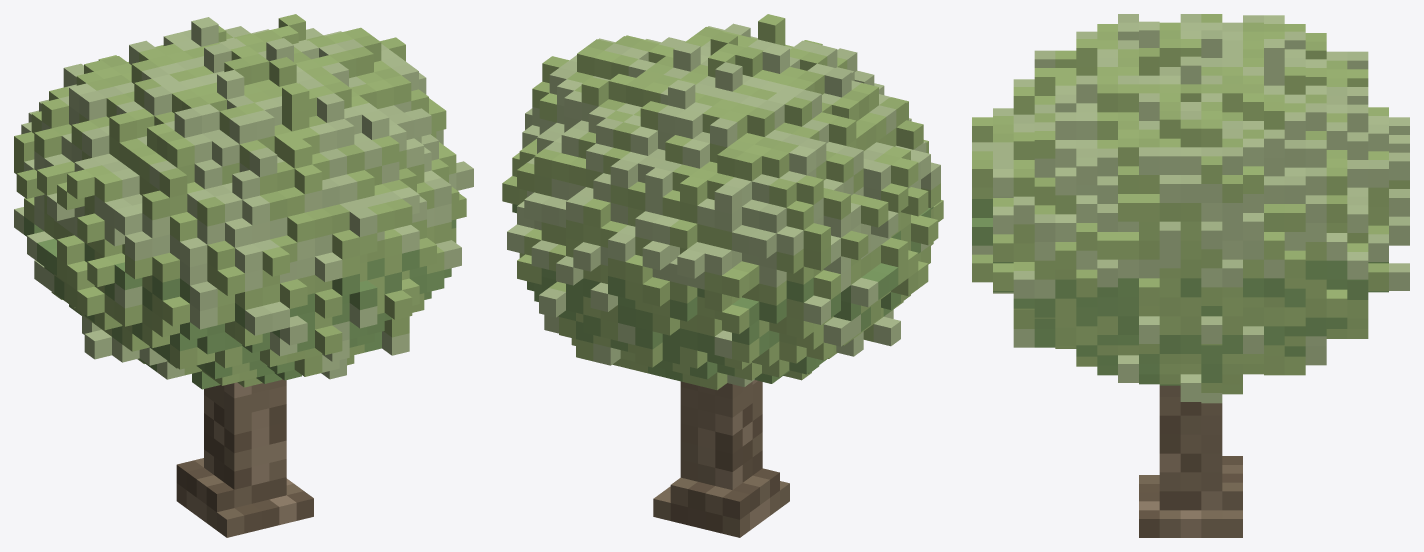
Rendered from oak_ancient_spring.glb.
3 views of the same model, side by side, from view 1: azimuth 30°, elevation 25°; view 2: azimuth 150°, elevation 25°; view 3: azimuth 270°, elevation 25° (orthographic). The views are drawn at different scales.
Parts seen in each view (by area): view 1: oak_ancient_spring; view 2: oak_ancient_spring; view 3: oak_ancient_spring.
Boxes of the visible parts, x1,y1,x2,y2 form: oak_ancient_spring: [14, 14, 473, 537]; oak_ancient_spring: [502, 14, 943, 537]; oak_ancient_spring: [972, 14, 1409, 537].
Size of the model in its own units: 21 by 25 by 21.
